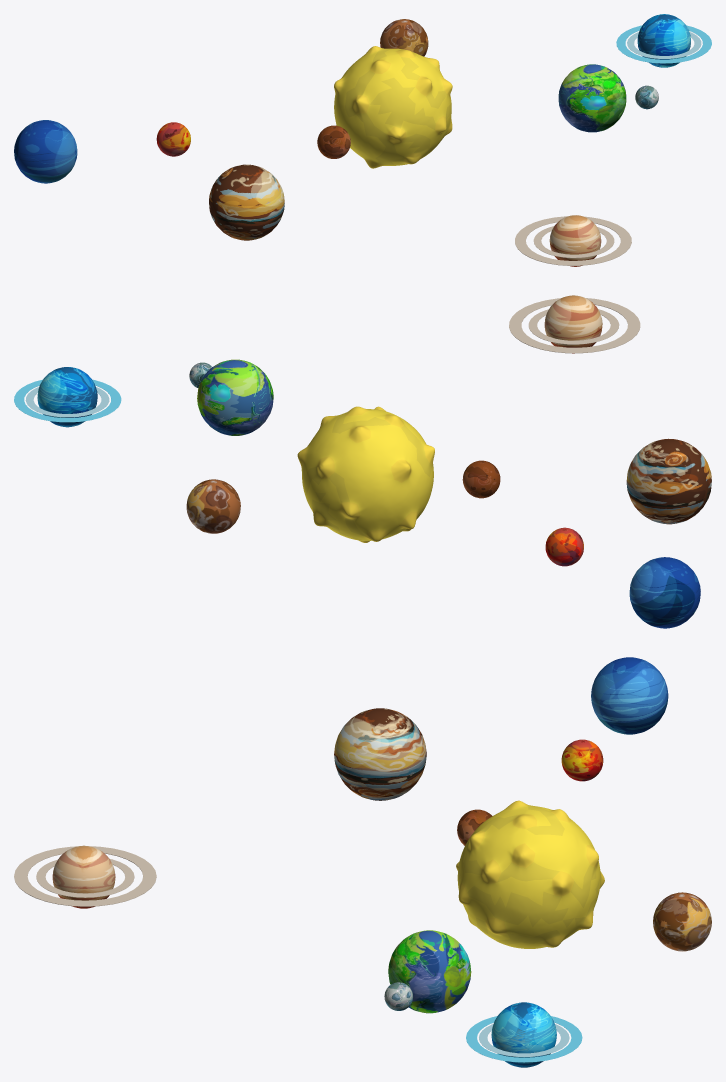
Rendered from cartoon-solar-system.gltf.
3 renders of one model, top to bottom at view 1: azimuth 30°, elevation 25°; view 2: azimuth 150°, elevation 25°; view 3: azimuth 270°, elevation 25°, orthographic. The views are drawn at different scales.
Parts seen in each view (by area): view 1: sun, Jupiter, Saturn, Earth, Uran, Neptune, Venus, Mars, Mercury, moon; view 2: sun, Jupiter, Saturn, Earth, Uran, Neptune, Venus, Mars, Mercury; view 3: sun, Jupiter, Saturn, Earth, Uran, Neptune, Venus, Mars, moon, Mercury.
Boxes of the visible parts, bbox=[...] form: sun: bbox=[334, 46, 452, 168]; Jupiter: bbox=[209, 164, 284, 240]; Saturn: bbox=[515, 215, 631, 266]; Earth: bbox=[558, 64, 626, 132]; Uran: bbox=[616, 14, 711, 67]; Neptune: bbox=[14, 120, 77, 183]; Venus: bbox=[380, 19, 428, 56]; Mars: bbox=[156, 122, 190, 156]; Mercury: bbox=[317, 125, 350, 158]; moon: bbox=[635, 85, 658, 109]; sun: bbox=[297, 406, 434, 542]; Jupiter: bbox=[626, 438, 711, 524]; Saturn: bbox=[509, 295, 640, 353]; Earth: bbox=[197, 359, 273, 435]; Uran: bbox=[14, 367, 121, 427]; Neptune: bbox=[629, 557, 700, 628]; Venus: bbox=[186, 479, 240, 533]; Mars: bbox=[545, 527, 583, 566]; Mercury: bbox=[462, 460, 500, 498]; sun: bbox=[456, 800, 604, 948]; Jupiter: bbox=[334, 708, 426, 800]; Saturn: bbox=[14, 845, 156, 908]; Earth: bbox=[388, 930, 471, 1013]; Uran: bbox=[466, 1002, 582, 1067]; Neptune: bbox=[591, 657, 668, 734]; Venus: bbox=[653, 892, 711, 951]; Mars: bbox=[561, 739, 603, 781]; moon: bbox=[384, 982, 413, 1010]; Mercury: bbox=[457, 809, 492, 845].
Size of the model in its own units: 50.43 by 8.51 by 38.87.
Materials: 2 (2 with a texture image).
